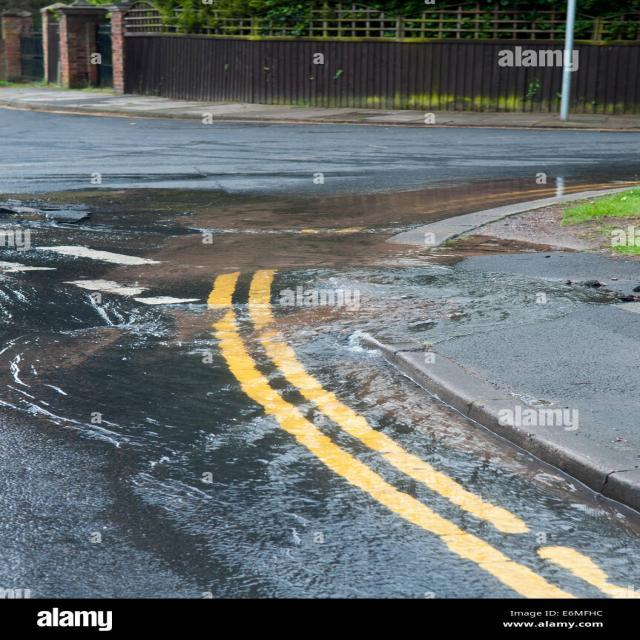water_leak: (1, 175, 638, 598)
